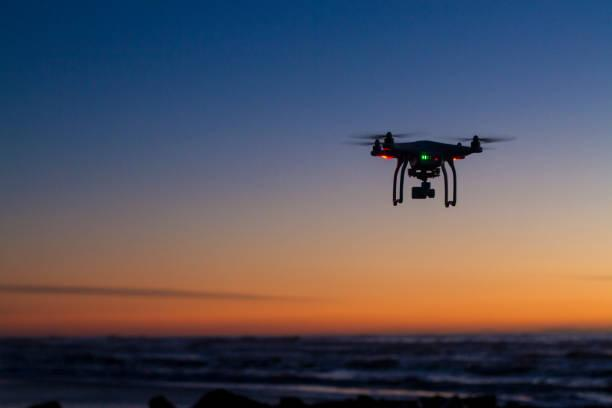drone_other: (344, 129, 502, 210)
